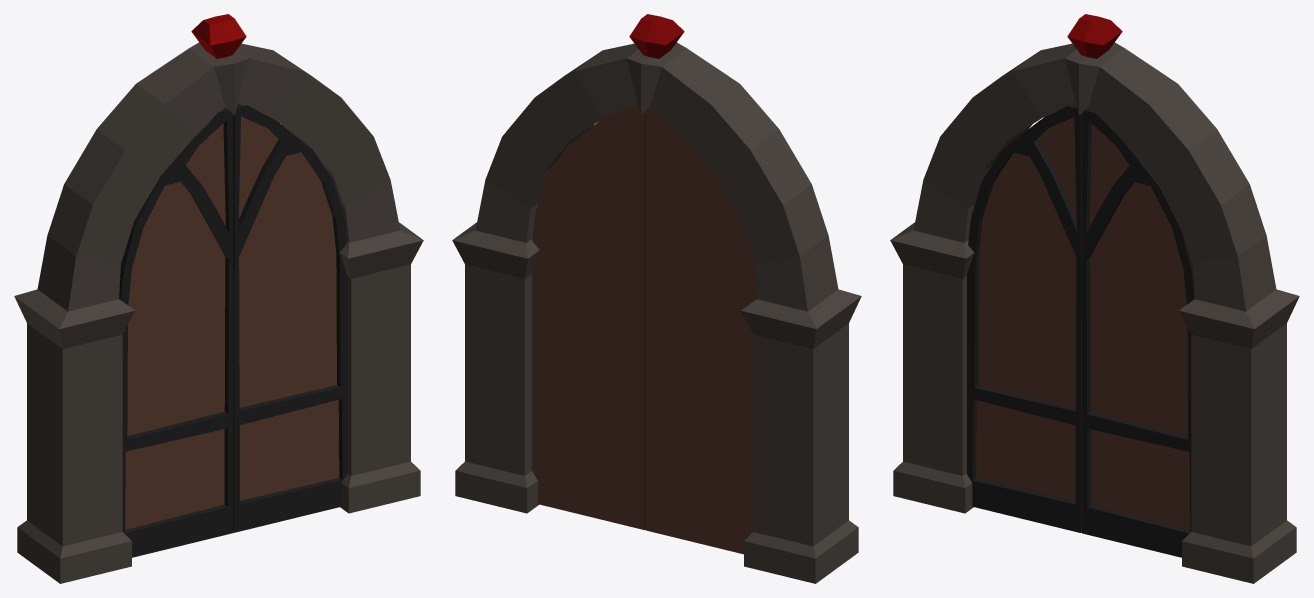
File: door.fbx
3 views of the same model, side by side, from view 1: azimuth 30°, elevation 25°; view 2: azimuth 150°, elevation 25°; view 3: azimuth 330°, elevation 25° (orthographic).
Parts seen in each view (by area): view 1: Cube, Cube.001, Cube.002; view 2: Cube, Cube.001, Cube.002; view 3: Cube, Cube.002, Cube.001.
Boxes of the visible parts, bbox=[...] form: Cube: bbox=[14, 14, 423, 583]; Cube.001: bbox=[233, 104, 347, 532]; Cube.002: bbox=[119, 107, 233, 557]; Cube: bbox=[452, 14, 861, 583]; Cube.001: bbox=[532, 104, 645, 530]; Cube.002: bbox=[646, 107, 756, 554]; Cube: bbox=[890, 14, 1299, 583]; Cube.002: bbox=[967, 104, 1081, 532]; Cube.001: bbox=[1082, 107, 1194, 557].
Size of the model in its own units: 292 by 387 by 62.89.
